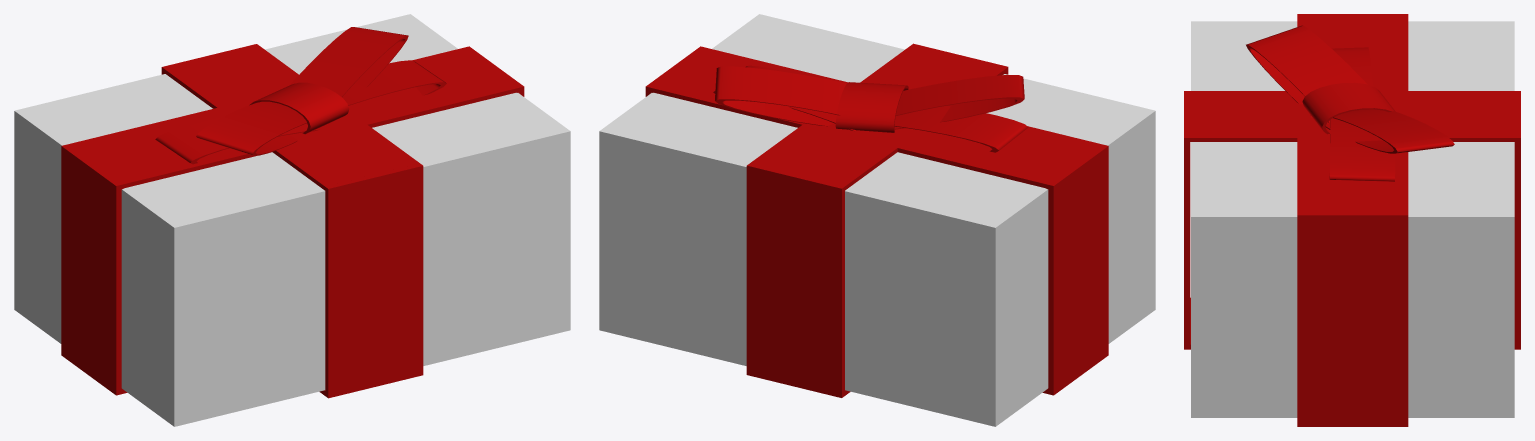
The model's file is present2.fbx.
The picture shows the model from 3 angles, left to right: view 1: azimuth 30°, elevation 25°; view 2: azimuth 150°, elevation 25°; view 3: azimuth 270°, elevation 25°; orthographic projection.
Parts seen in each view (by area): view 1: pCube1, pCube2, pCube3, pPipe2 (×2), pPipe1 (×2), pPipe3; view 2: pCube1, pCube2, pCube3, pPipe2 (×2), pPipe1, pPipe3; view 3: pCube1, pCube3, pCube2, pPipe2 (×2), pPipe1 (×2), pPipe3.
Boxes of the visible parts, <box> form: pCube1: <box>14,14,570,426</box>; pCube2: <box>161,44,423,398</box>; pCube3: <box>61,46,524,395</box>; pPipe2 (×2): <box>196,27,408,155</box>; pPipe1 (×2): <box>155,60,446,164</box>; pPipe3: <box>249,82,349,134</box>; pCube1: <box>599,14,1155,426</box>; pCube2: <box>746,43,1008,397</box>; pCube3: <box>645,46,1108,395</box>; pPipe2 (×2): <box>715,66,1024,129</box>; pPipe1: <box>894,105,1028,152</box>; pPipe3: <box>835,82,908,132</box>; pCube1: <box>1191,21,1514,417</box>; pCube3: <box>1297,14,1408,426</box>; pCube2: <box>1184,91,1520,349</box>; pPipe2 (×2): <box>1246,25,1454,153</box>; pPipe1 (×2): <box>1310,47,1395,181</box>; pPipe3: <box>1302,82,1395,134</box>.
Bounding box in the file's own units: 5.15 × 2.92 × 3.64.
